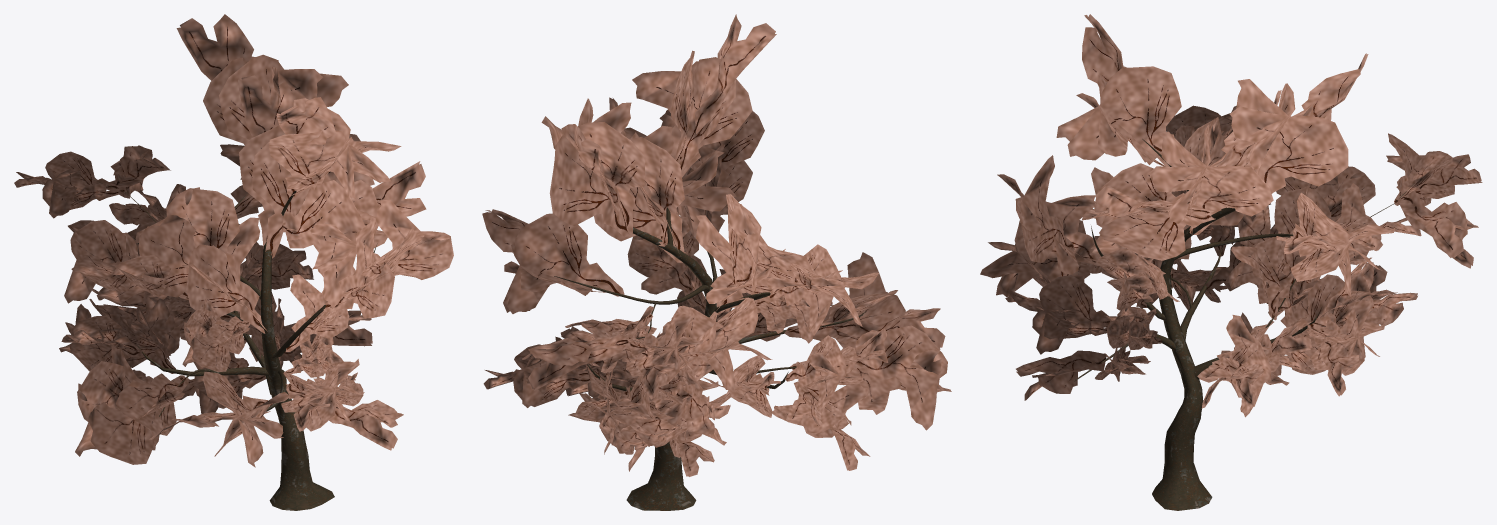
The picture shows the model from 3 angles, left to right: view 1: azimuth 30°, elevation 25°; view 2: azimuth 150°, elevation 25°; view 3: azimuth 270°, elevation 25°; orthographic projection. The views are drawn at different scales.
Parts seen in each view (by area): view 1: Tree_Mesh_32_1-Tree_Leaves_Mat, Tree_Mesh_32_2-Tree_Trunk_Mat; view 2: Tree_Mesh_32_1-Tree_Leaves_Mat, Tree_Mesh_32_2-Tree_Trunk_Mat; view 3: Tree_Mesh_32_1-Tree_Leaves_Mat, Tree_Mesh_32_2-Tree_Trunk_Mat.
Boxes of the visible parts, x1,y1,x2,y2 form: Tree_Mesh_32_1-Tree_Leaves_Mat: [14, 14, 453, 467]; Tree_Mesh_32_2-Tree_Trunk_Mat: [92, 179, 377, 510]; Tree_Mesh_32_1-Tree_Leaves_Mat: [482, 14, 951, 476]; Tree_Mesh_32_2-Tree_Trunk_Mat: [554, 129, 865, 510]; Tree_Mesh_32_1-Tree_Leaves_Mat: [980, 14, 1482, 417]; Tree_Mesh_32_2-Tree_Trunk_Mat: [1074, 139, 1414, 510].
Size of the model in its own units: 22.01 by 25.55 by 25.57.
